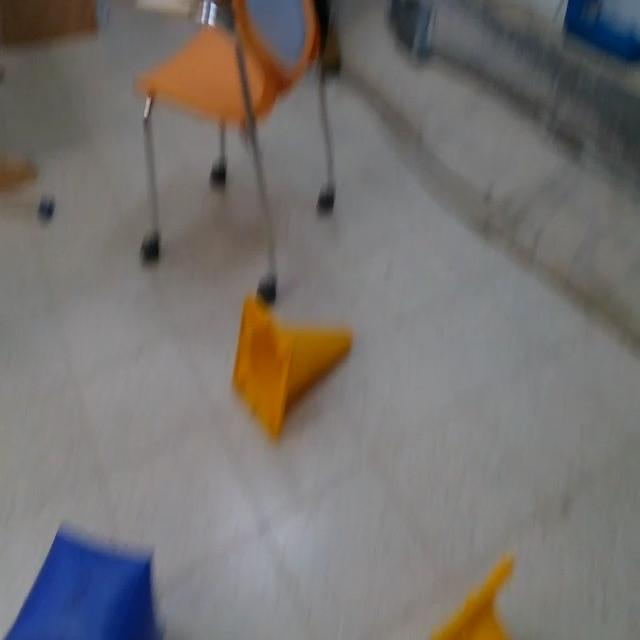cone: (232, 298, 354, 438), (432, 551, 521, 640)
cube: (2, 523, 166, 640)
